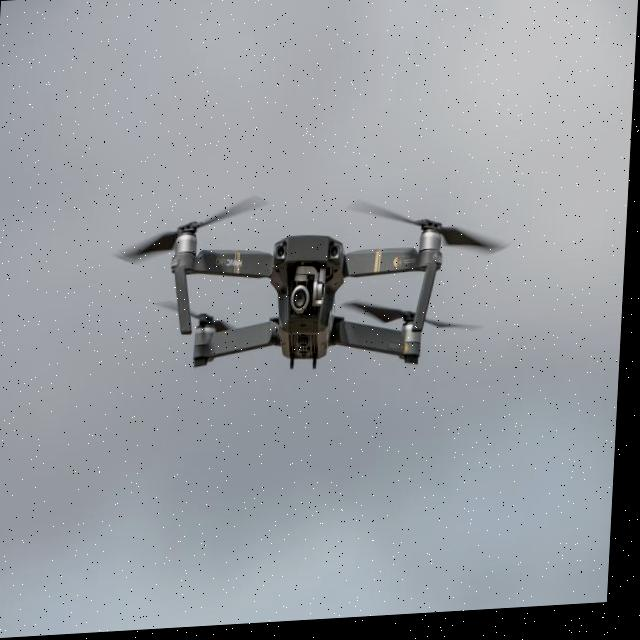drone: (122, 179, 497, 399)
